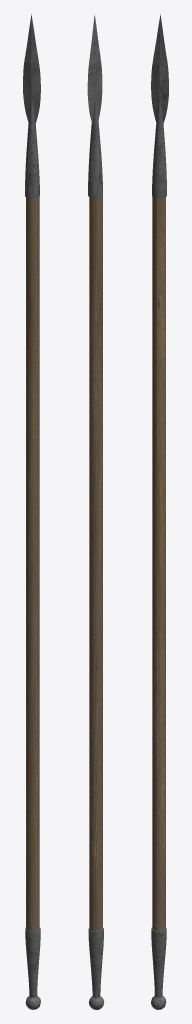
File: Spear.FBX
The picture shows the model from 3 angles, left to right: view 1: azimuth 90°, elevation 25°; view 2: azimuth 150°, elevation 25°; view 3: azimuth 270°, elevation 25°; orthographic projection.
Parts seen in each view (by area): view 1: spear; view 2: spear; view 3: spear.
Part boxes in pixels (x1=…): spear: x1=23, y1=14, x2=40, y2=1009; spear: x1=87, y1=15, x2=104, y2=1009; spear: x1=151, y1=14, x2=168, y2=1009.
Bounding box in the file's own units: 3.49 × 242 × 3.99.
Materials: 1 (1 with a texture image).
